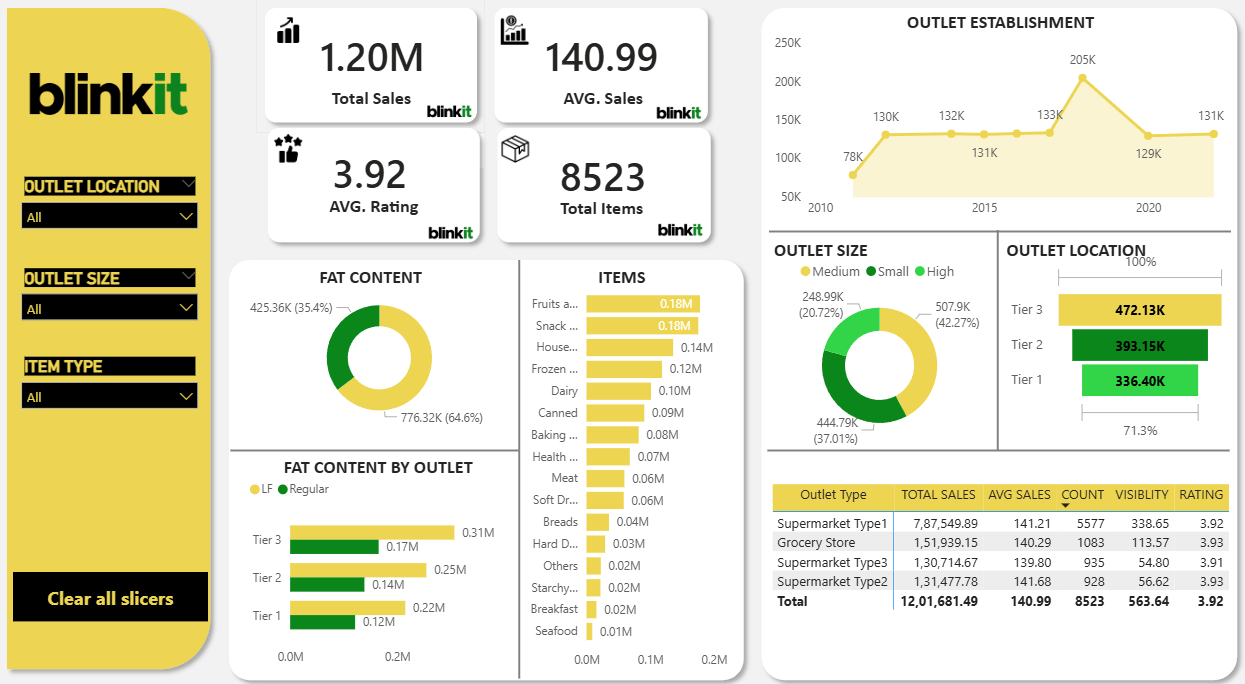

The page's visual inventory and layout, read from the dashboard file:
{"tool":"powerbi","page":{"name":"Page 1","canvas":[1280,720],"ordinal":0},"visuals":[{"type":"shape","box":[0,12.4,227,696.5],"z":0},{"type":"image","box":[0,0,227,219.2],"z":1000},{"type":"shape","box":[264.3,12.9,235.7,135.7],"z":2000},{"type":"shape","box":[500,12.9,237.1,135.7],"z":3000},{"type":"shape","box":[267.7,135.4,235.4,135.4],"z":4000},{"type":"shape","box":[503.1,135.4,236.9,135.4],"z":5000},{"type":"shape","box":[227.7,270.8,546.2,449.2],"z":6000},{"type":"shape","box":[773.8,12.3,506.2,707.7],"z":7000},{"type":"cardVisual","fields":{"Data":["Sum(BlinkIT Grocery Data.Sales)"]},"box":[298.6,27.1,171.4,82.9],"z":8000},{"type":"cardVisual","fields":{"Data":["Avg(BlinkIT Grocery Data.Sales)"]},"box":[530,32.9,177.1,72.9],"z":9000},{"type":"cardVisual","fields":{"Data":["Avg(BlinkIT Grocery Data.Rating)"]},"box":[295.4,147.7,172.3,81.5],"z":10000},{"type":"cardVisual","fields":{"Data":["CountNonNull(BlinkIT Grocery Data.Item Identifier)"]},"box":[529.2,150.8,183.1,81.5],"z":11000},{"type":"textbox","box":[302.9,97.1,160,40],"z":12000},{"type":"textbox","box":[540,209.2,158.5,40],"z":13000},{"type":"textbox","box":[306.2,207.7,158.5,41.5],"z":14000},{"type":"textbox","box":[541.4,97.1,158.6,41.4],"z":15000},{"type":"image","box":[422.9,97.1,80,61.4],"z":16000},{"type":"image","box":[658.6,98.6,80,61.4],"z":17000},{"type":"image","box":[660,218.5,80,61.5],"z":18000},{"type":"image","box":[424.6,221.5,80,61.5],"z":19000},{"type":"image","box":[275.7,28.6,44.3,30],"z":20000},{"type":"image","box":[507.1,28.6,44.3,30],"z":21000},{"type":"image","box":[275.4,150.8,44.6,29.2],"z":22000},{"type":"image","box":[509.2,150.8,43.1,30.8],"z":23000},{"type":"barChart","fields":{"Category":["BlinkIT Grocery Data.Item Type"],"Y":["Sum(BlinkIT Grocery Data.Sales)"]},"box":[529.2,293.8,244.6,413.8],"z":24000},{"type":"textbox","box":[560,280,160,41.5],"z":25000},{"type":"donutChart","fields":{"Category":["BlinkIT Grocery Data.Item Fat Content"],"Y":["Sum(BlinkIT Grocery Data.Sales)"]},"box":[252.3,304.6,276.9,150.8],"z":25001},{"type":"textbox","box":[303.1,280,158.5,41.5],"z":25002},{"type":"clusteredBarChart","fields":{"Category":["BlinkIT Grocery Data.Outlet Location Type"],"Y":["Sum(BlinkIT Grocery Data.Sales)"],"Series":["BlinkIT Grocery Data.Item Fat Content"]},"box":[252.3,495.4,276.9,209.2],"z":25003},{"type":"textbox","box":[283.1,475.4,213.8,41.5],"z":25004},{"type":"shape","box":[529.2,280,10.8,429.2],"z":25005},{"type":"shape","box":[238.5,469.2,295.4,12.3],"z":25006},{"type":"areaChart","fields":{"Category":["BlinkIT Grocery Data.Outlet Establishment Year"],"Y":["Sum(BlinkIT Grocery Data.Sales)"]},"box":[790.8,43.1,473.8,201.5],"z":25007},{"type":"textbox","box":[910.8,18.5,235.4,41.5],"z":25008},{"type":"donutChart","fields":{"Category":["BlinkIT Grocery Data.Outlet Size"],"Y":["Sum(BlinkIT Grocery Data.Sales)"]},"box":[790.8,270.8,226.2,204.6],"z":25009},{"type":"textbox","box":[790.8,252.3,213.8,41.5],"z":25010},{"type":"shape","box":[790.8,244.6,473.8,12.3],"z":25011},{"type":"shape","box":[1021.5,249.2,7.7,226.2],"z":25012},{"type":"shape","box":[789.2,469.2,473.8,12.3],"z":25013},{"type":"funnel","fields":{"Y":["Sum(BlinkIT Grocery Data.Sales)"],"Category":["BlinkIT Grocery Data.Outlet Location Type"]},"box":[1033.8,264.6,230.8,204.6],"z":25014},{"type":"textbox","box":[1028.8,252.5,213.8,41.2],"z":25015},{"type":"pivotTable","fields":{"Values":["Sum(BlinkIT Grocery Data.Sales)","Avg(BlinkIT Grocery Data.Sales)","CountNonNull(BlinkIT Grocery Data.Item Identifier)","Sum(BlinkIT Grocery Data.Item Visibility)","Avg(BlinkIT Grocery Data.Rating)"],"Rows":["BlinkIT Grocery Data.Outlet Type"]},"box":[789.2,504.6,490.8,190.8],"z":25016},{"type":"slicer","fields":{"Values":["BlinkIT Grocery Data.Outlet Location Type"]},"box":[13.8,189.2,201.5,63.1],"z":25017},{"type":"slicer","fields":{"Values":["BlinkIT Grocery Data.Outlet Size"]},"box":[13.8,283.1,201.5,61.5],"z":25018},{"type":"slicer","fields":{"Values":["BlinkIT Grocery Data.Item Type"]},"box":[13.8,373.8,201.5,66.2],"z":25019},{"type":"actionButton","box":[15.4,600,200,50.8],"z":25020}]}

Visuals, with their boxes in screenshot pixels (x1, y1, x2, y2), scaled from the page's 1280x720 canvas onto the 1245x684 screenshot:
shape: select_region(0, 12, 221, 673)
image: select_region(0, 0, 221, 208)
shape: select_region(257, 12, 486, 141)
shape: select_region(486, 12, 717, 141)
shape: select_region(260, 129, 489, 257)
shape: select_region(489, 129, 720, 257)
shape: select_region(221, 257, 753, 683)
shape: select_region(753, 12, 1244, 683)
cardVisual - Sum(BlinkIT Grocery Data.Sales): select_region(290, 26, 457, 104)
cardVisual - Avg(BlinkIT Grocery Data.Sales): select_region(516, 31, 688, 101)
cardVisual - Avg(BlinkIT Grocery Data.Rating): select_region(287, 140, 455, 218)
cardVisual - CountNonNull(BlinkIT Grocery Data.Item Identifier): select_region(515, 143, 693, 221)
textbox: select_region(295, 92, 450, 130)
textbox: select_region(525, 199, 679, 237)
textbox: select_region(298, 197, 452, 237)
textbox: select_region(527, 92, 681, 132)
image: select_region(411, 92, 489, 151)
image: select_region(641, 94, 718, 152)
image: select_region(642, 208, 720, 266)
image: select_region(413, 210, 491, 269)
image: select_region(268, 27, 311, 56)
image: select_region(493, 27, 536, 56)
image: select_region(268, 143, 311, 171)
image: select_region(495, 143, 537, 173)
barChart - BlinkIT Grocery Data.Item Type x Sum(BlinkIT Grocery Data.Sales): select_region(515, 279, 753, 672)
textbox: select_region(545, 266, 700, 305)
donutChart - BlinkIT Grocery Data.Item Fat Content x Sum(BlinkIT Grocery Data.Sales): select_region(245, 289, 515, 433)
textbox: select_region(295, 266, 449, 305)
clusteredBarChart - BlinkIT Grocery Data.Outlet Location Type x Sum(BlinkIT Grocery Data.Sales): select_region(245, 471, 515, 669)
textbox: select_region(275, 452, 483, 491)
shape: select_region(515, 266, 525, 674)
shape: select_region(232, 446, 519, 457)
areaChart - BlinkIT Grocery Data.Outlet Establishment Year x Sum(BlinkIT Grocery Data.Sales): select_region(769, 41, 1230, 232)
textbox: select_region(886, 18, 1115, 57)
donutChart - BlinkIT Grocery Data.Outlet Size x Sum(BlinkIT Grocery Data.Sales): select_region(769, 257, 989, 452)
textbox: select_region(769, 240, 977, 279)
shape: select_region(769, 232, 1230, 244)
shape: select_region(994, 237, 1001, 452)
shape: select_region(768, 446, 1228, 457)
funnel - Sum(BlinkIT Grocery Data.Sales) x BlinkIT Grocery Data.Outlet Location Type: select_region(1006, 251, 1230, 446)
textbox: select_region(1001, 240, 1209, 279)
pivotTable - Sum(BlinkIT Grocery Data.Sales) x Avg(BlinkIT Grocery Data.Sales): select_region(768, 479, 1244, 661)
slicer - BlinkIT Grocery Data.Outlet Location Type: select_region(13, 180, 209, 240)
slicer - BlinkIT Grocery Data.Outlet Size: select_region(13, 269, 209, 327)
slicer - BlinkIT Grocery Data.Item Type: select_region(13, 355, 209, 418)
actionButton: select_region(15, 570, 210, 618)
